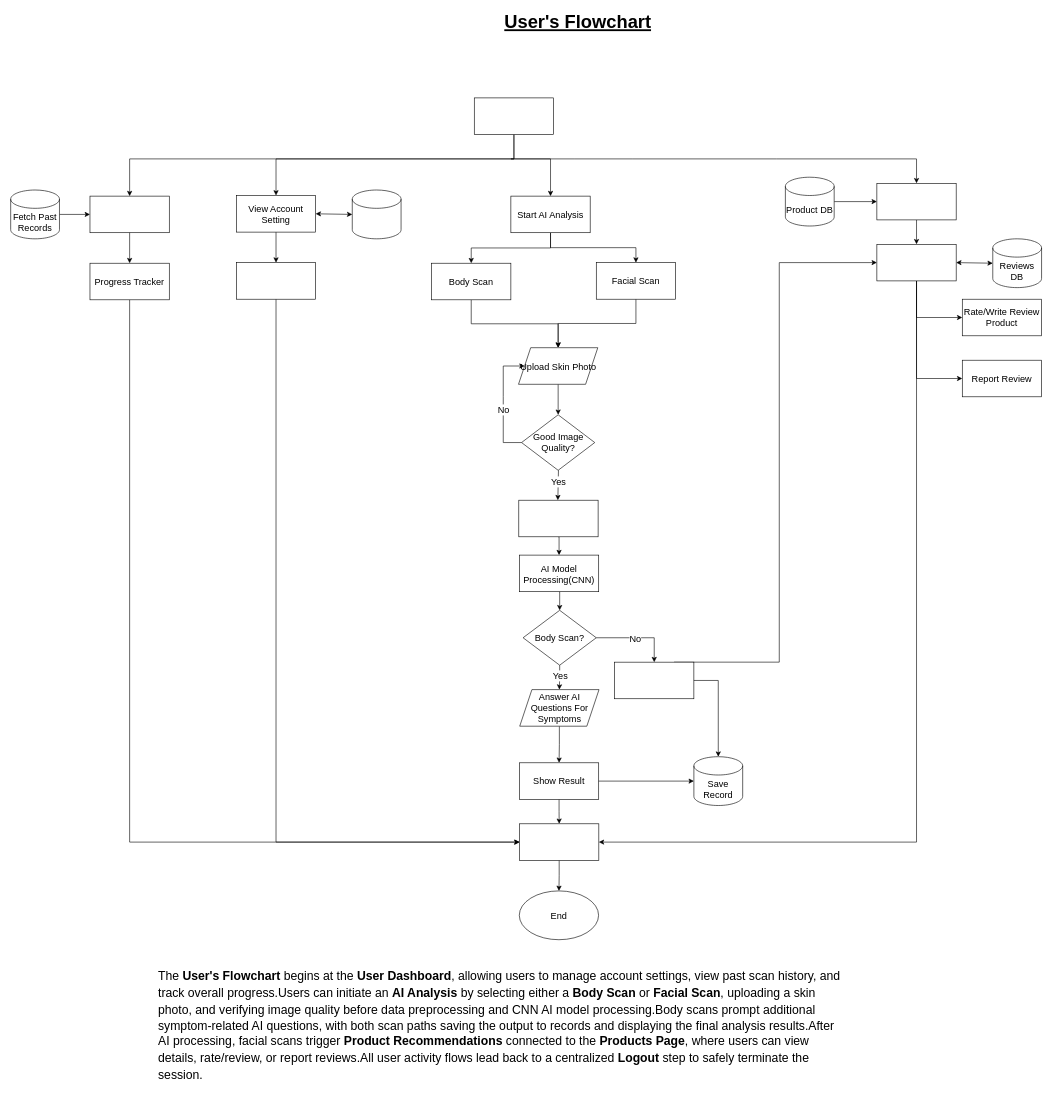
This 1052x1102 diagram has some shape labels left out. Here are the shapes that lost their labels. From the top down, the centre of each, then its label:
point (514, 116): User Dashboard
point (129, 214): View History
point (376, 214): User DB
point (916, 201): Products Page
point (276, 280): Manage Account
point (916, 262): Product Detail
point (558, 518): Data Preprocessing
point (654, 680): Product Recommendation
point (559, 841): Logout
